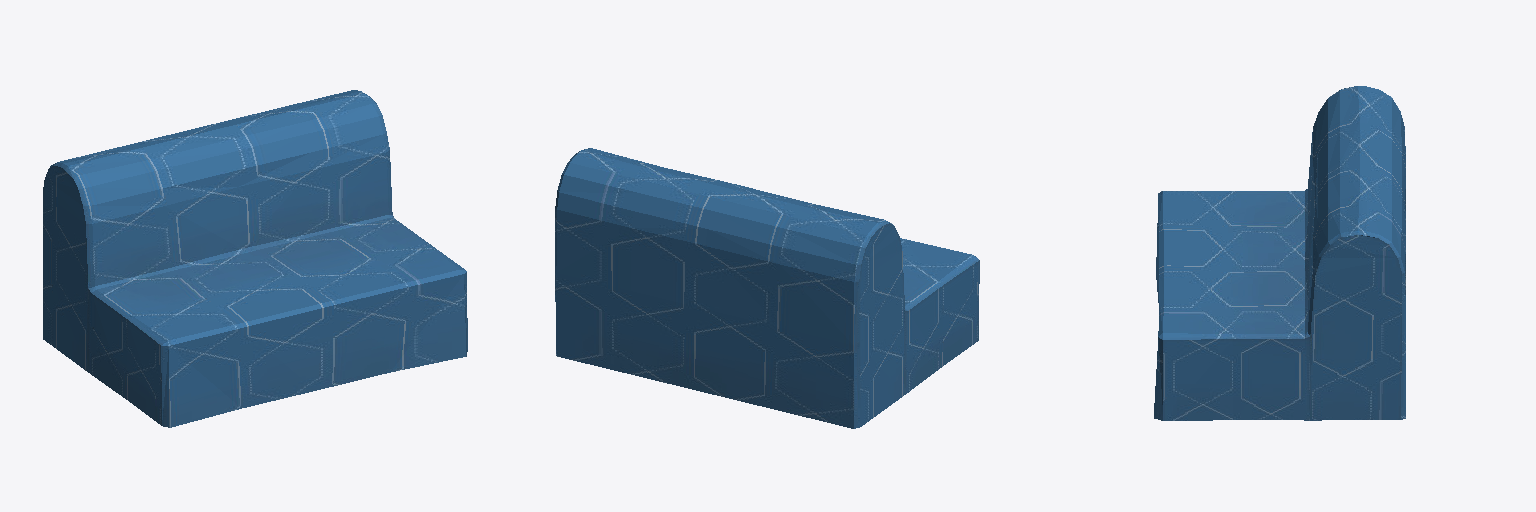
The picture shows the model from 3 angles: view 1: azimuth 30°, elevation 25°; view 2: azimuth 150°, elevation 25°; view 3: azimuth 270°, elevation 25°; orthographic projection.
Parts seen in each view (by area): view 1: sofa_Cube.002; view 2: sofa_Cube.002; view 3: sofa_Cube.002.
Part boxes in pixels (left/top/right/bottom): sofa_Cube.002: left=43, top=90, right=467, bottom=427; sofa_Cube.002: left=555, top=148, right=979, bottom=428; sofa_Cube.002: left=1154, top=86, right=1405, bottom=420.
Bounding box in the file's own units: 143 × 87.35 × 102.
4 materials, 1 textured.